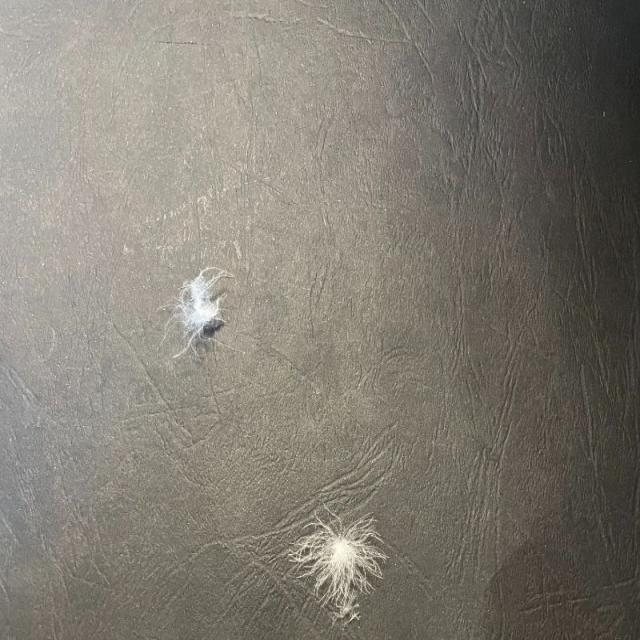feather: (294, 508, 388, 600), (171, 261, 230, 352)
